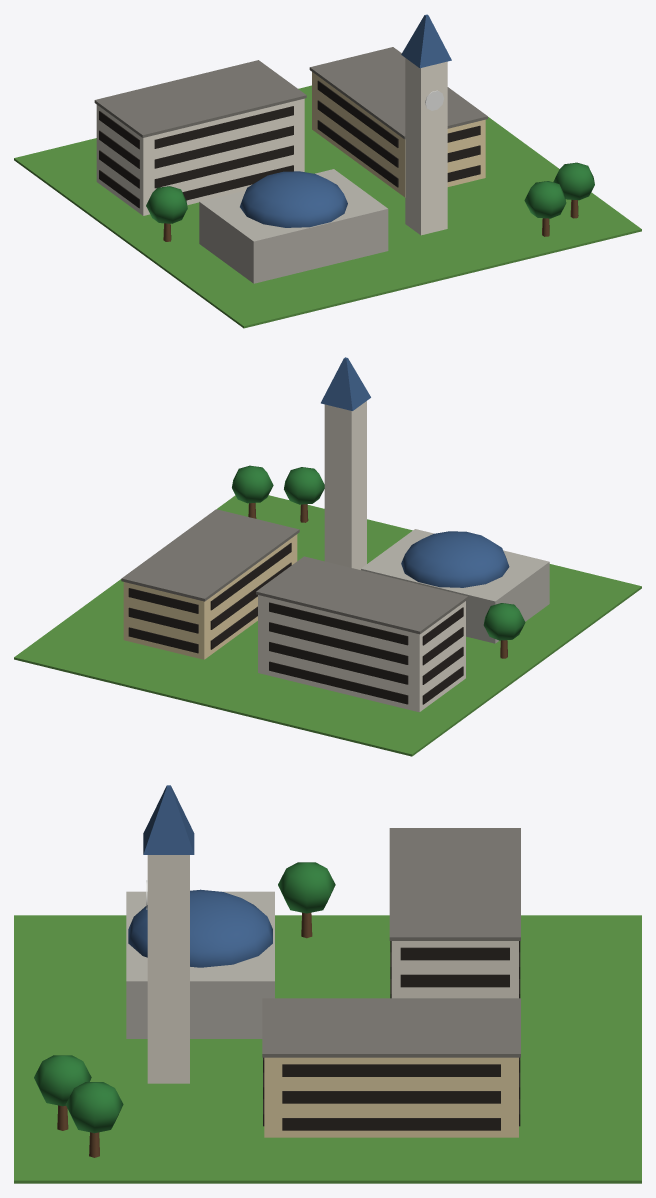
The model's file is building_universiti.glb.
The picture shows the model from 3 angles, top to bottom: view 1: azimuth 30°, elevation 25°; view 2: azimuth 150°, elevation 25°; view 3: azimuth 270°, elevation 25°; orthographic projection. The views are drawn at different scales.
Parts seen in each view (by area): view 1: building_universiti; view 2: building_universiti; view 3: building_universiti.
Boxes of the visible parts, x1,y1,x2,y2 form: building_universiti: (14,14,641,328); building_universiti: (14,357,641,756); building_universiti: (14,785,641,1183).
Size of the model in its own units: 2.96 by 1.51 by 2.96.
